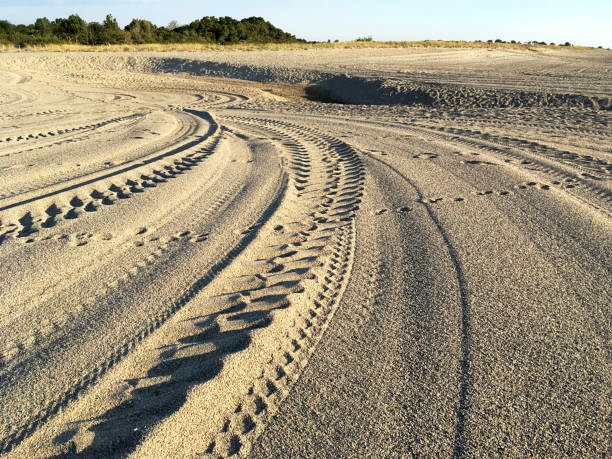vehicle_track: (61, 118, 363, 456), (0, 174, 286, 452), (205, 117, 362, 456), (365, 153, 472, 456), (0, 112, 220, 241), (352, 119, 611, 215), (406, 126, 611, 215), (0, 112, 206, 199), (416, 124, 611, 179), (0, 113, 143, 143)
